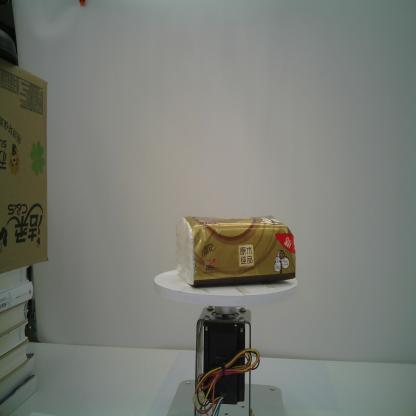Tissue: (174, 214, 297, 289)
